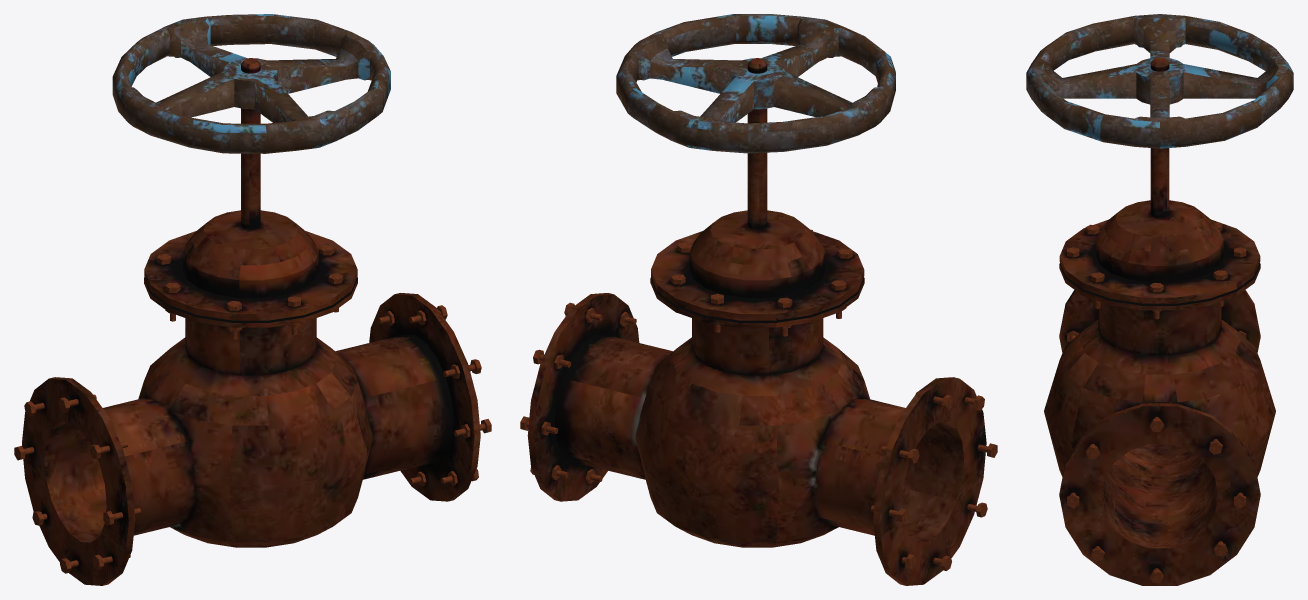
File: valve.glb
3 renders of one model, left to right at view 1: azimuth 30°, elevation 25°; view 2: azimuth 150°, elevation 25°; view 3: azimuth 270°, elevation 25°, orthographic. The views are drawn at different scales.
Visible parts, largest first — view 1: Cylinder003, Cylinder005; view 2: Cylinder003, Cylinder005; view 3: Cylinder003, Cylinder005.
Boxes of the visible parts, <box> form: Cylinder003: <box>22,58,480,585</box>; Cylinder005: <box>112,14,390,153</box>; Cylinder003: <box>527,58,986,585</box>; Cylinder005: <box>616,14,895,153</box>; Cylinder003: <box>1044,57,1275,585</box>; Cylinder005: <box>1026,14,1293,148</box>.
Size of the model in its own units: 0.8325 by 0.9875 by 0.538.
Materials: 3 (3 with a texture image).
